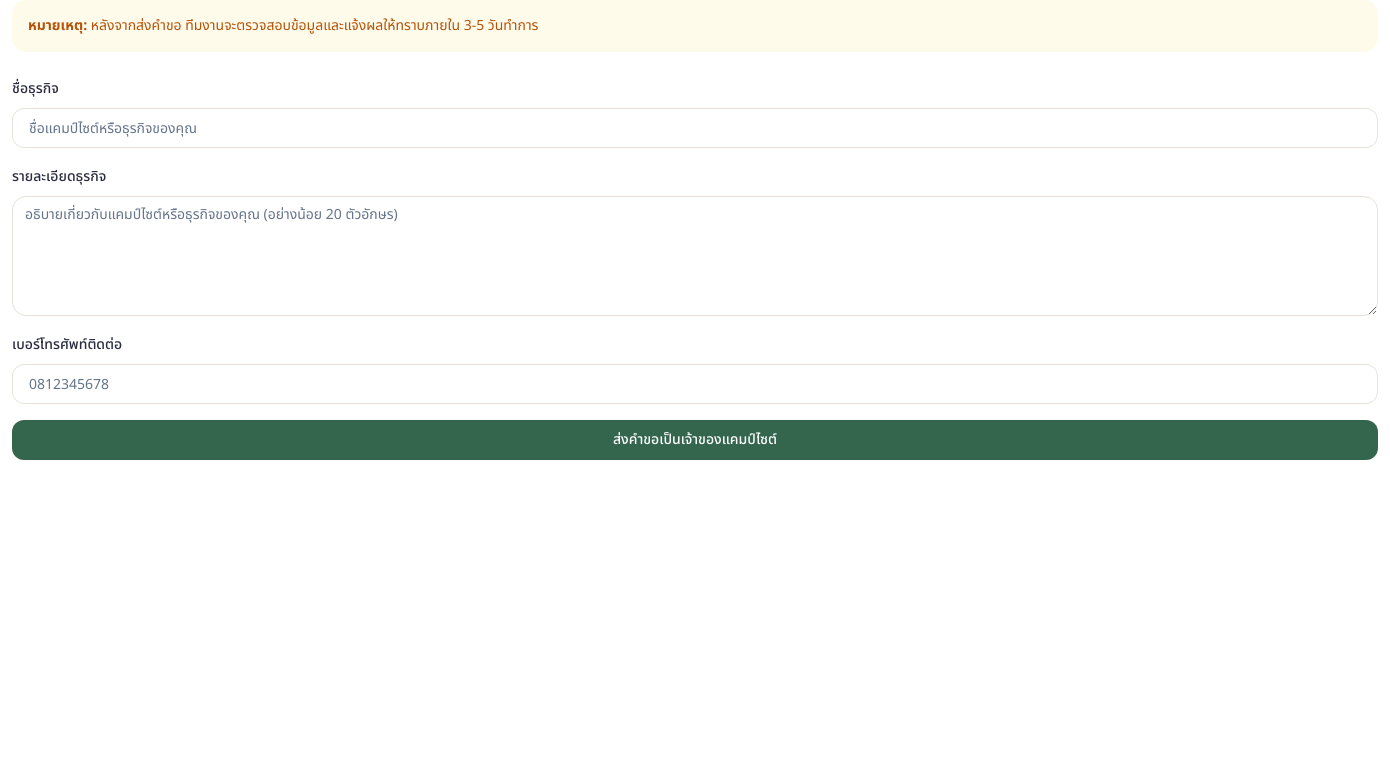
Test: OwnerRequestForm › Validation › validates business description minimum length
The width and height of the screenshot is (1390, 768).
Type "Short description" into the text box labelled "รายละเอียดธุรกิจ". click: (695, 256)
box: [12, 196, 1378, 316]
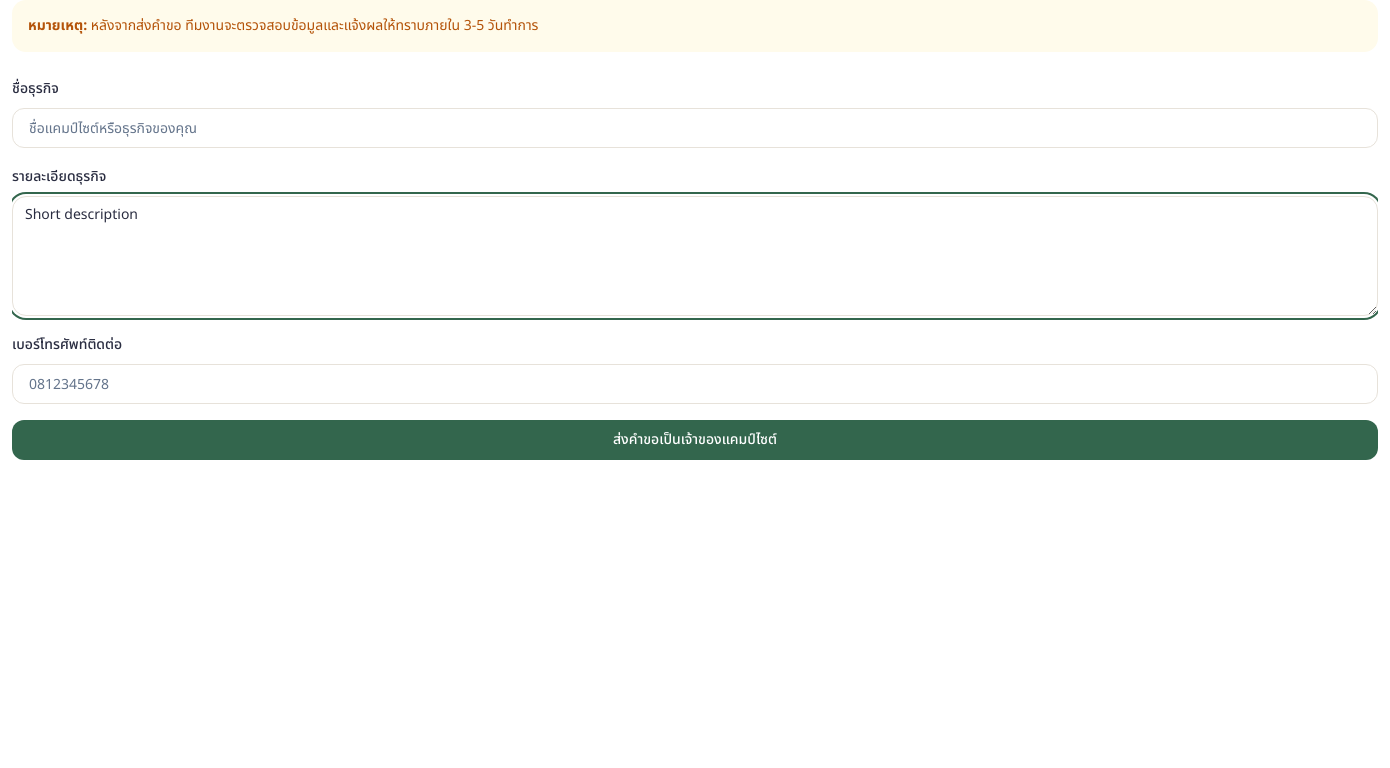
Click the button "ส่งคำขอเป็นเจ้าของแคมป์ไซต์". click: (695, 440)
box: [12, 420, 1378, 460]
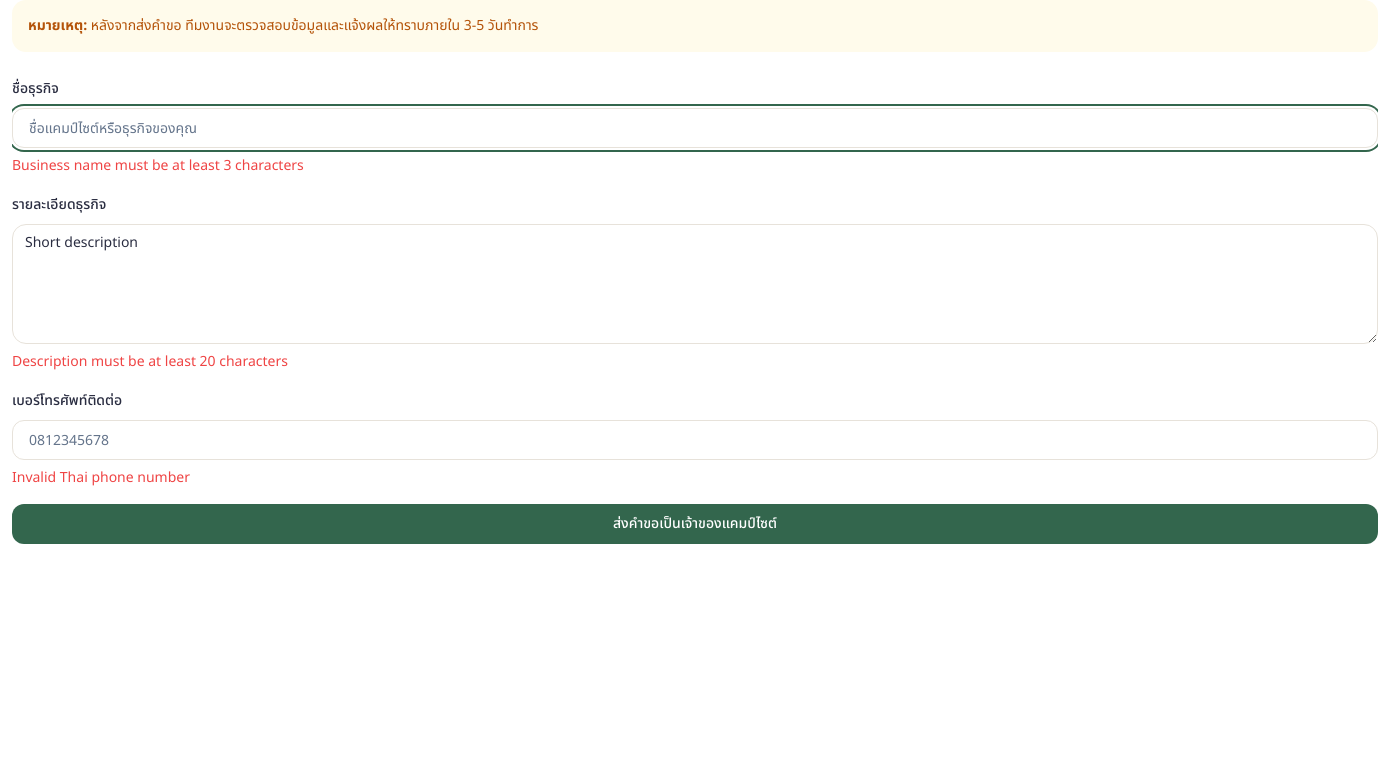
expect the text "Description must be at least 20 characters" is shown: met, box [12, 351, 288, 372]
